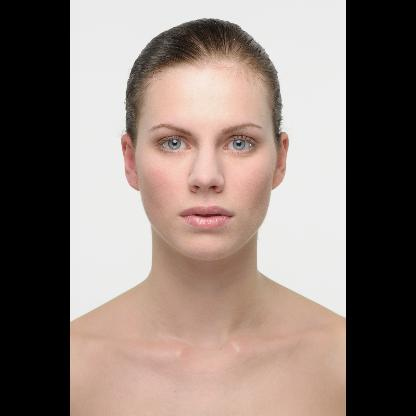Female: (120, 53, 288, 260)
